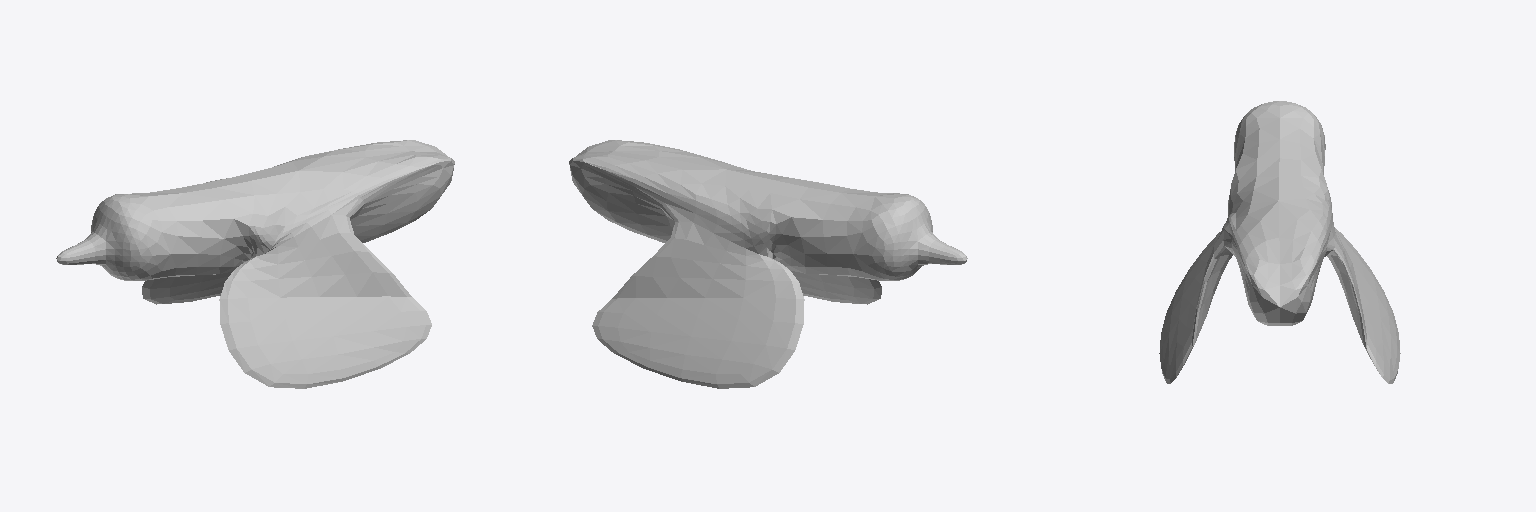
File: bird_000001.obj
3 views of the same model, side by side, from view 1: azimuth 30°, elevation 25°; view 2: azimuth 150°, elevation 25°; view 3: azimuth 270°, elevation 25° (orthographic).
Parts seen in each view (by area): view 1: Cube; view 2: Cube; view 3: Cube.
Part boxes in pixels (left/top/right/bottom): Cube: left=56, top=140, right=454, bottom=388; Cube: left=569, top=140, right=967, bottom=388; Cube: left=1159, top=101, right=1400, bottom=383.
Bounding box in the file's own units: 0.3355 × 0.1421 × 0.1758.